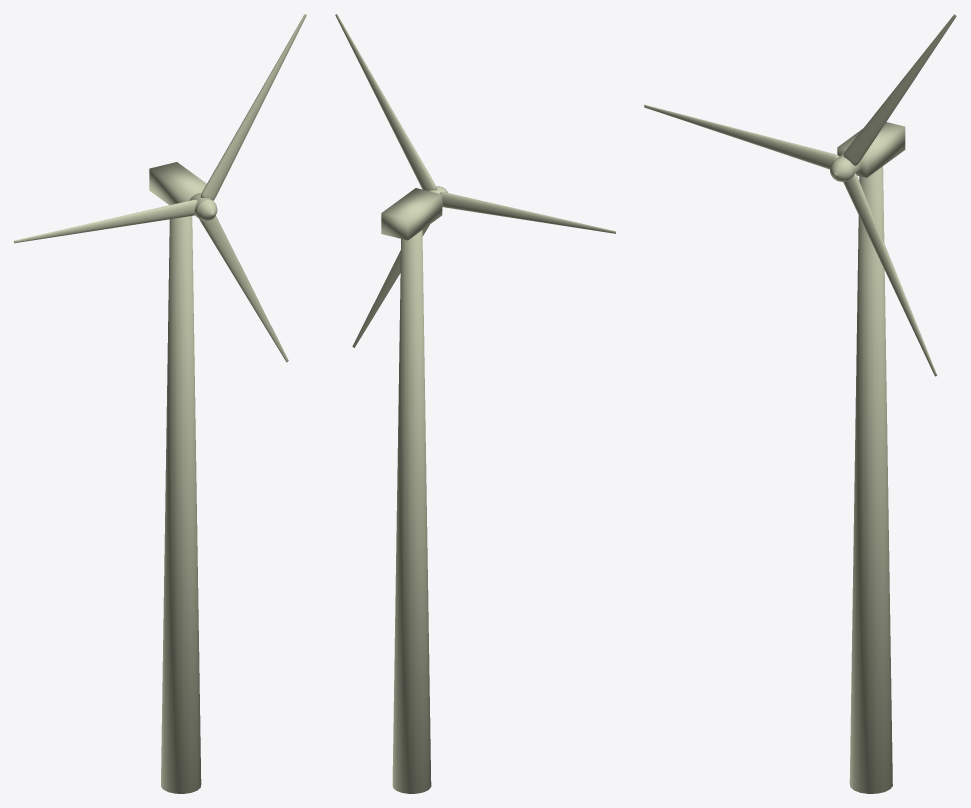
File: complete-windmill-v2.obj
3 renders of one model, left to right at view 1: azimuth 30°, elevation 25°; view 2: azimuth 150°, elevation 25°; view 3: azimuth 330°, elevation 25°, orthographic. The views are drawn at different scales.
Visible parts, largest first — view 1: cylinder1, cube2; view 2: cylinder1, cube2; view 3: cylinder1, cube2.
Part boxes in pixels (x1,y1,x2,y2): cylinder1: (14,14,306,793); cube2: (149,162,206,204); cylinder1: (335,14,615,793); cube2: (381,188,442,240); cylinder1: (644,14,956,793); cube2: (837,122,905,177).
Size of the model in its own units: 2.06 by 5.13 by 0.6204.
